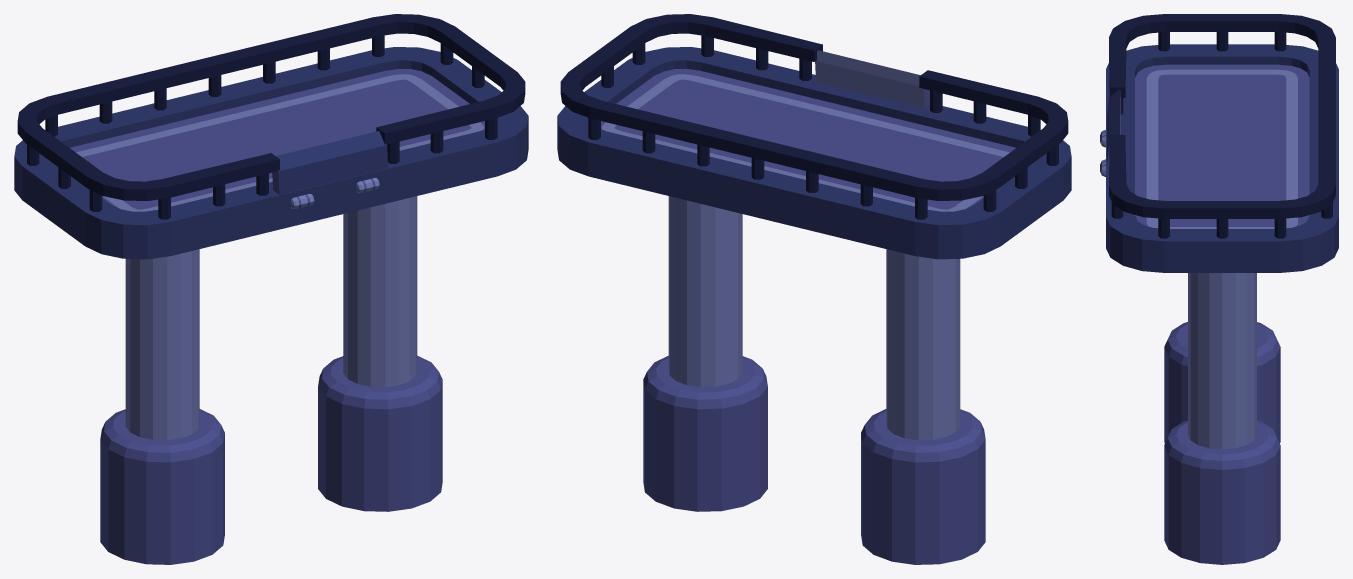
File: UFO_Elevator.fbx
The picture shows the model from 3 angles, left to right: view 1: azimuth 30°, elevation 25°; view 2: azimuth 150°, elevation 25°; view 3: azimuth 270°, elevation 25°; orthographic projection. The views are drawn at different scales.
Visible parts, largest first — view 1: Cube.015, Cube.016; view 2: Cube.015, Cube.016; view 3: Cube.015, Cube.016.
Part boxes in pixels (x1,y1,x2,y2): Cube.015: [14, 14, 528, 564]; Cube.016: [272, 131, 388, 208]; Cube.015: [557, 14, 1071, 564]; Cube.016: [815, 50, 929, 108]; Cube.015: [1106, 14, 1338, 564]; Cube.016: [1100, 89, 1120, 176].
Size of the model in its own units: 4 by 3.6 by 2.05.
